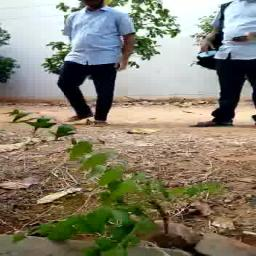Azadiractha Indica: (7, 104, 243, 256)
